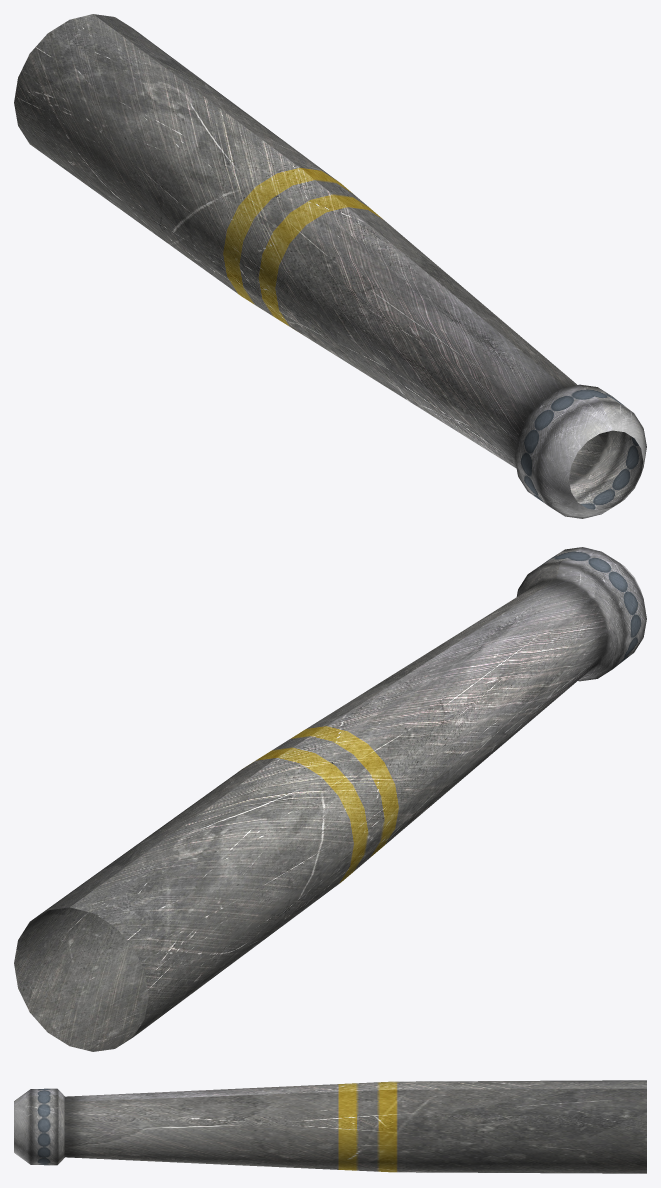
The model's file is water_tool.FBX.
The picture shows the model from 3 angles, top to bottom: view 1: azimuth 30°, elevation 25°; view 2: azimuth 150°, elevation 25°; view 3: azimuth 270°, elevation 25°; orthographic projection. The views are drawn at different scales.
Visible parts, largest first — view 1: Cylinder01; view 2: Cylinder01; view 3: Cylinder01.
Boxes of the visible parts, x1,y1,x2,y2 form: Cylinder01: (14,14,646,518); Cylinder01: (14,547,646,1051); Cylinder01: (14,1080,646,1173).
Bounding box in the file's own units: 18.02 × 122 × 17.74.
Materials: 1 (1 with a texture image).
